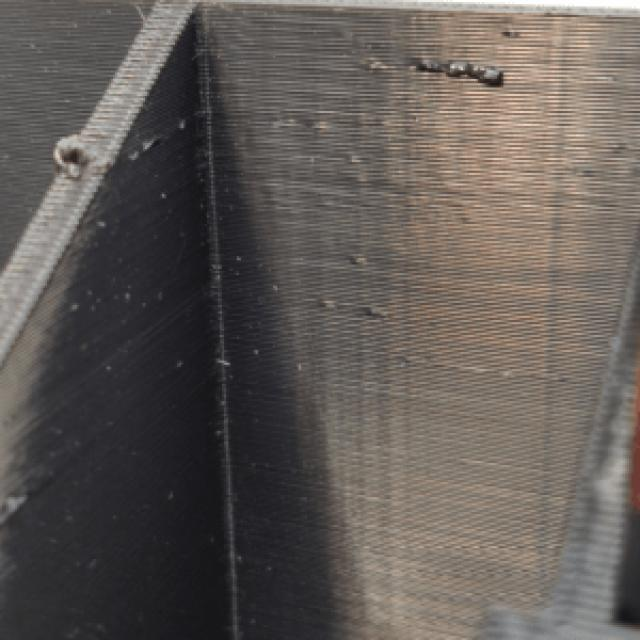blobs: (396, 23, 523, 104), (298, 251, 392, 344), (41, 128, 112, 200)
